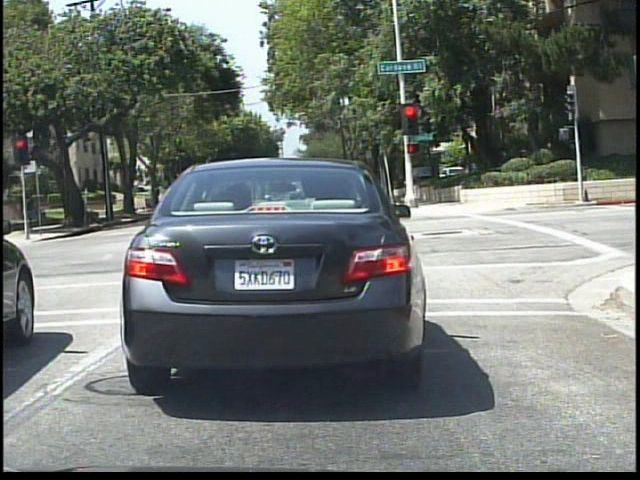person: (18, 186, 39, 237)
